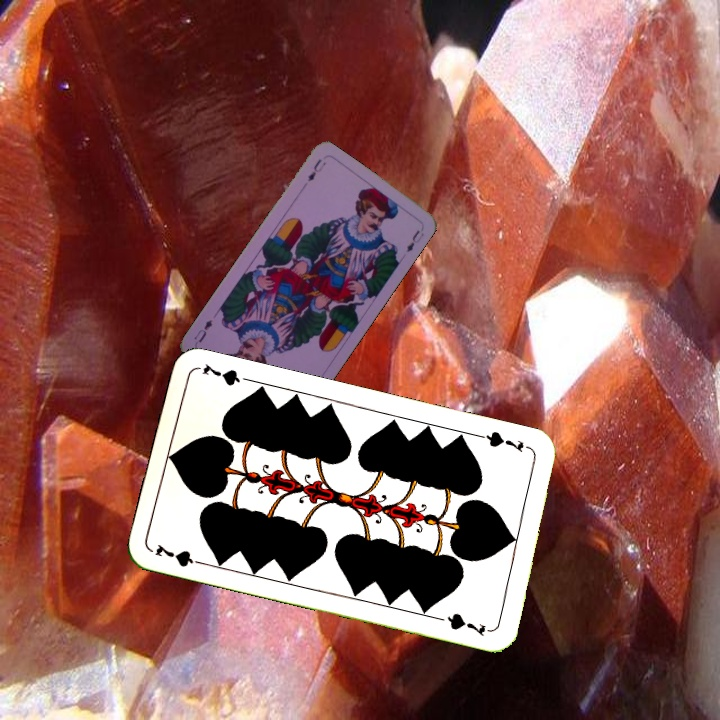EU: (304, 155, 329, 185)
G7: (151, 540, 209, 570), (477, 427, 526, 455)
